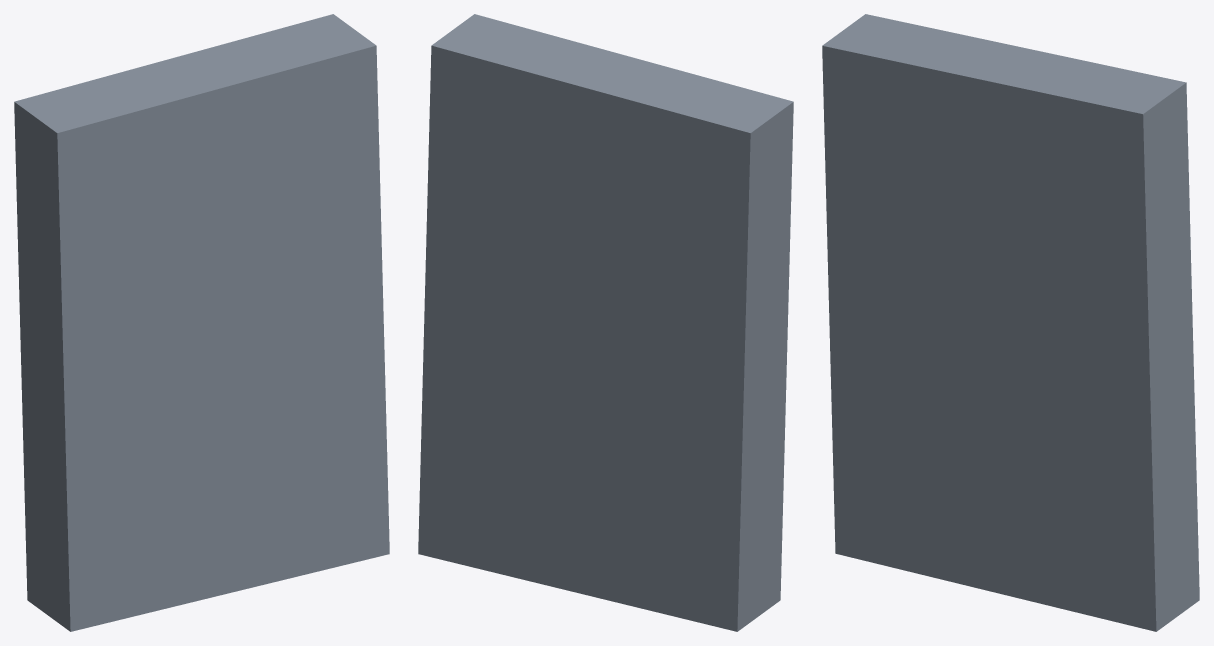
3 renders of one model, left to right at view 1: azimuth 30°, elevation 25°; view 2: azimuth 150°, elevation 25°; view 3: azimuth 330°, elevation 25°, orthographic.
Visible parts, largest first — view 1: geometry_0; view 2: geometry_0; view 3: geometry_0.
Boxes of the visible parts, x1,y1,x2,y2 form: geometry_0: (14,14,389,631); geometry_0: (418,14,793,631); geometry_0: (822,14,1199,631).
Size of the model in its own units: 13.34 by 19.62 by 3.
